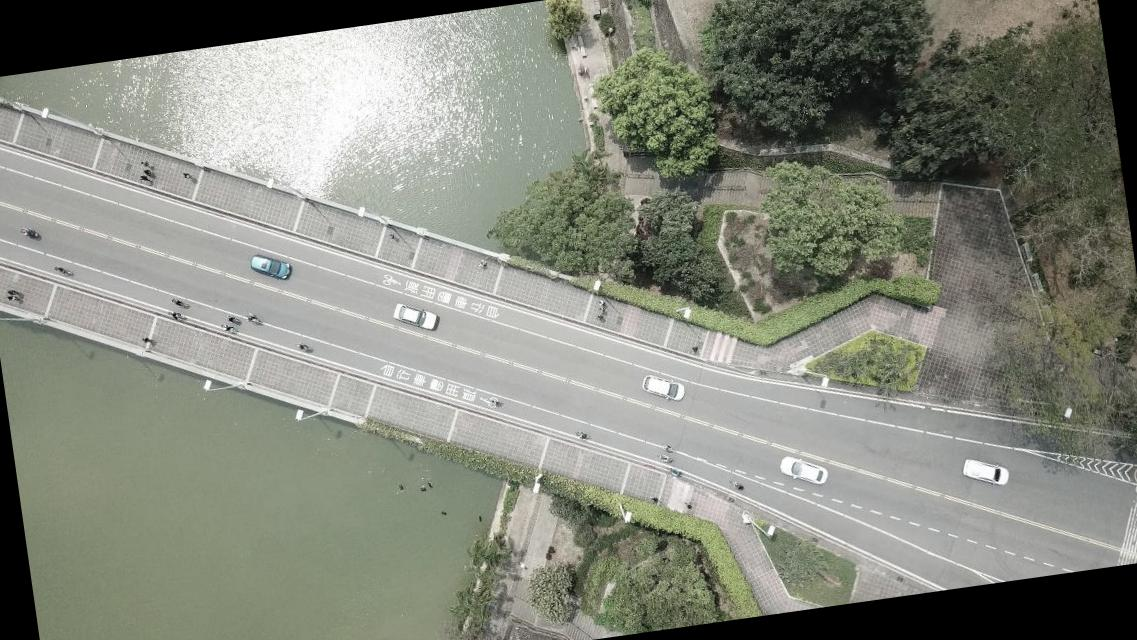vehicle: (778, 450, 829, 490), (392, 296, 441, 335), (960, 454, 1010, 491), (640, 370, 688, 406), (250, 250, 294, 286)
